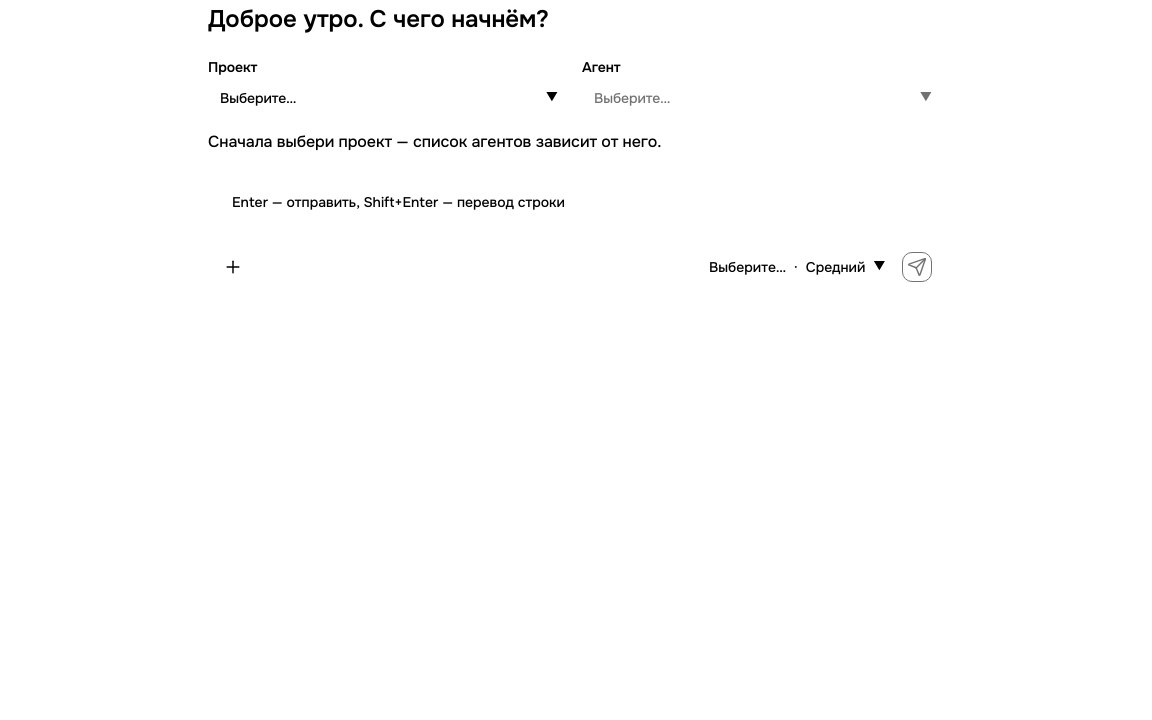
Test: the screen that creates a session › shows the model failure reason inside the expanded group
Click the button "Выберите… · Средний ▼". click: (797, 267)
box: top-left (697, 252), bottom-right (898, 282)
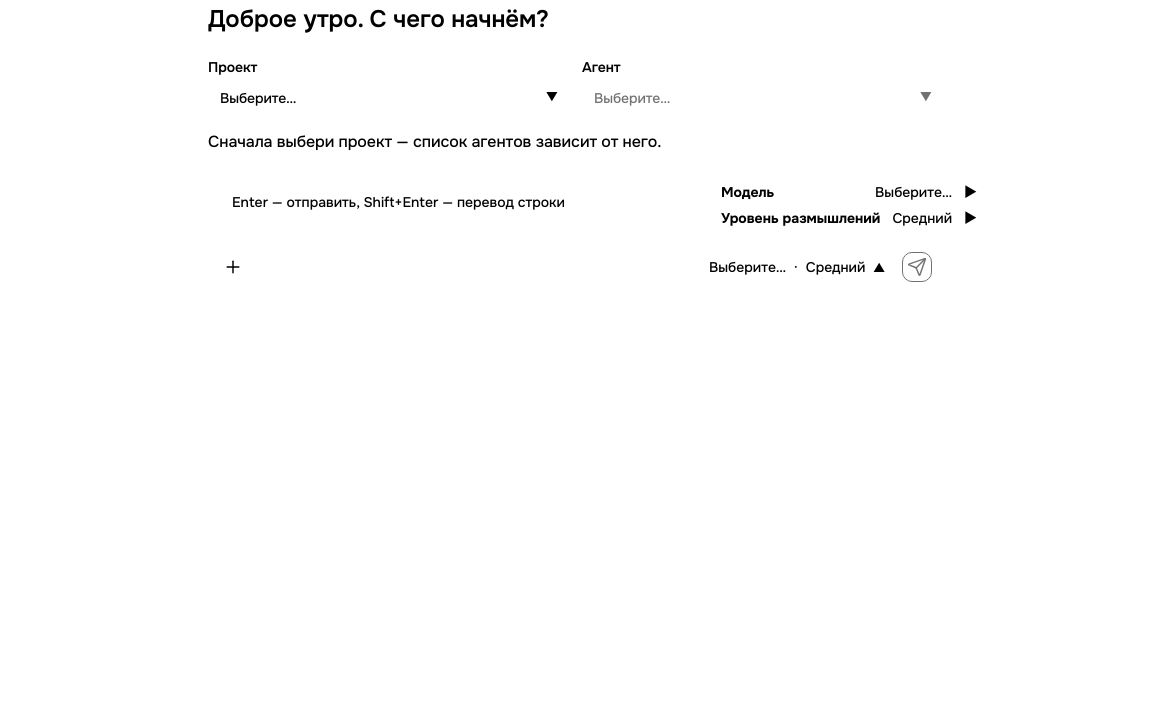
Click the menu item "Модель Выберите… ▶". click: (748, 192)
box: top-left (709, 179), bottom-right (989, 205)
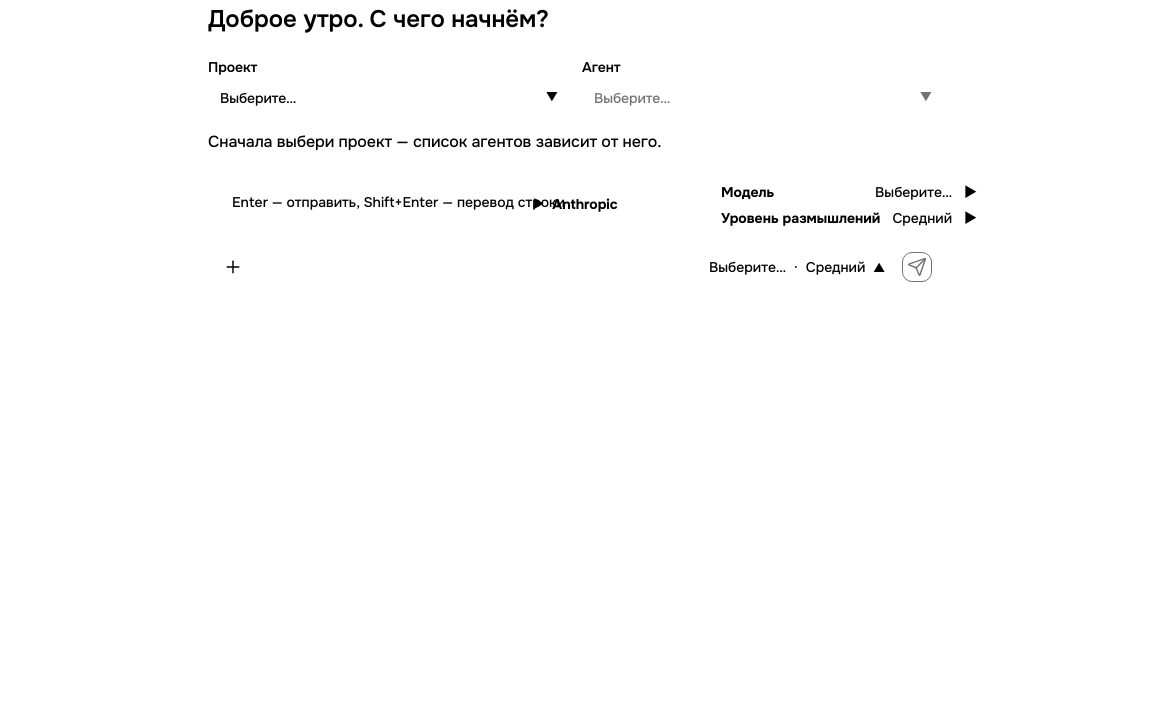
Click the element showing "▶ Anthropic". click: (575, 204)
box: top-left (533, 195), bottom-right (618, 213)
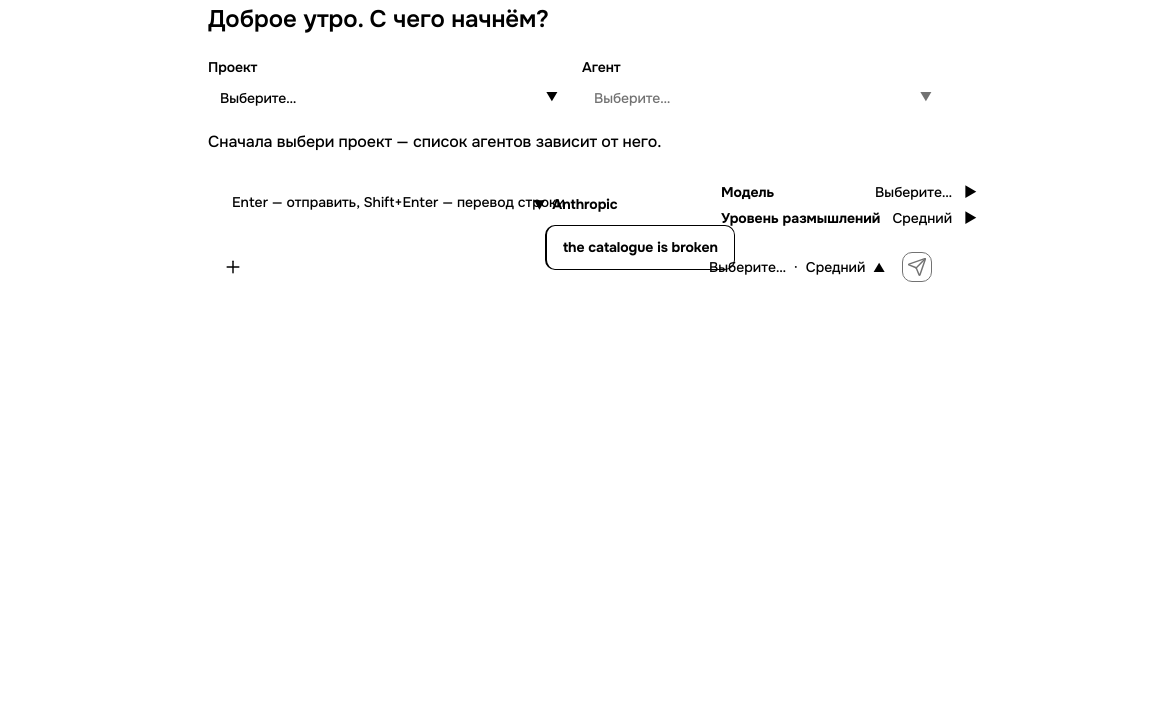
Expected: the text "the catalogue is broken" is shown, top-left (563, 238), bottom-right (718, 257)
